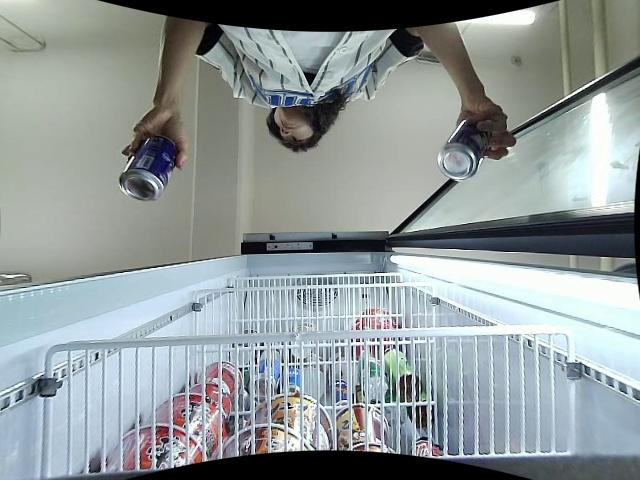00_hand: (120, 107, 189, 174), (456, 100, 517, 161)
14_welchsGrape: (118, 135, 177, 202), (439, 119, 491, 179)
